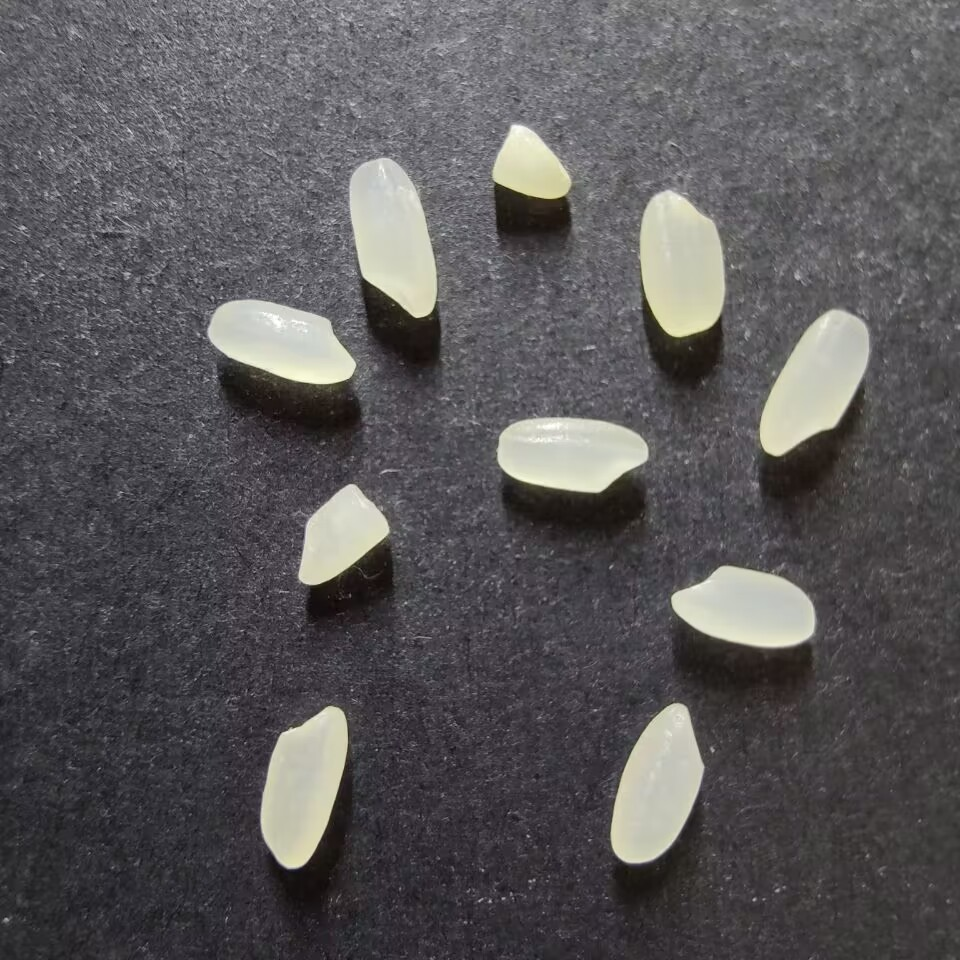broken: (296, 483, 389, 586), (490, 123, 572, 200)
rice: (758, 309, 870, 456), (609, 702, 704, 865), (259, 705, 348, 870), (348, 158, 437, 318), (638, 189, 725, 338), (206, 299, 355, 385), (670, 564, 816, 647), (496, 416, 648, 493)
